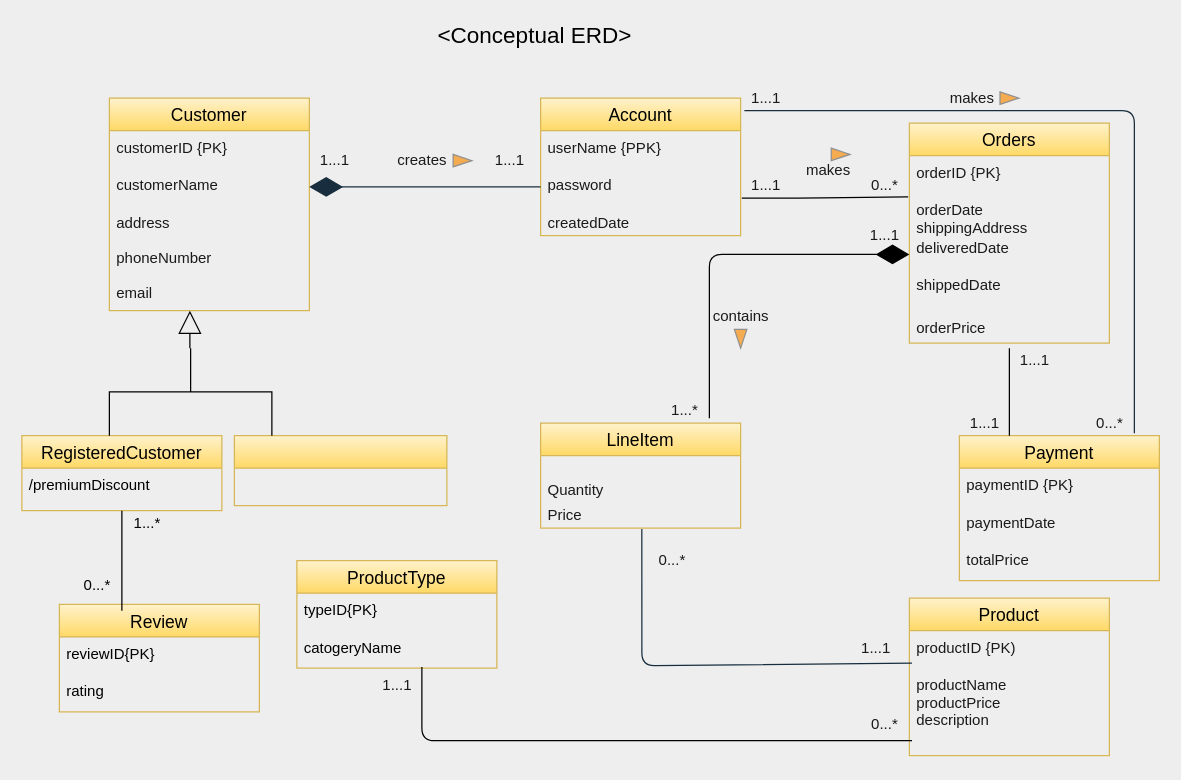
Image size: 1181x780. Some labels were removed from this diagram. Here are the shapes that lost their labels. From the top down, the centre of each, then its label:
At (190,391): "{Complete,disjoint}".
At (340,470): "TemporaryCustomer".
